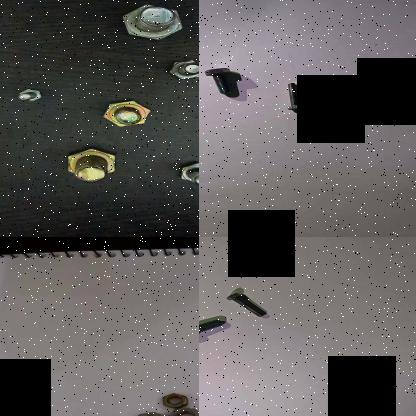Bolts: (54, 146, 130, 182), (120, 4, 188, 42), (95, 96, 156, 127), (225, 288, 275, 318), (202, 64, 238, 98), (163, 56, 199, 82), (9, 84, 49, 106), (282, 80, 307, 112), (199, 316, 229, 342), (174, 159, 199, 188)
NUTS: (160, 389, 188, 409), (168, 404, 199, 416), (131, 408, 171, 416)
